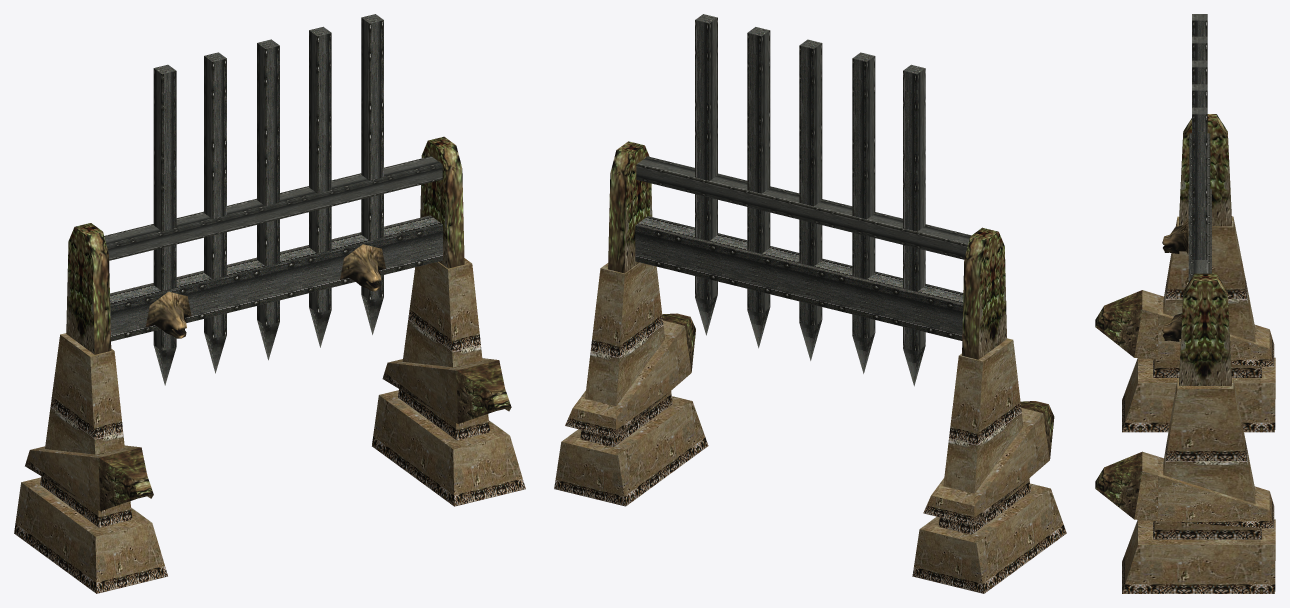
File: StoneMuWall01.glb
3 views of the same model, side by side, from view 1: azimuth 30°, elevation 25°; view 2: azimuth 150°, elevation 25°; view 3: azimuth 270°, elevation 25° (orthographic). The views are drawn at different scales.
Parts seen in each view (by area): view 1: StoneMuWall01; view 2: StoneMuWall01; view 3: StoneMuWall01.
Part boxes in pixels (bbox=[...]): StoneMuWall01: bbox=[14, 14, 525, 593]; StoneMuWall01: bbox=[554, 14, 1066, 593]; StoneMuWall01: bbox=[1095, 14, 1275, 593].
Size of the model in its own units: 6 by 6.24 by 2.36.
Materials: 5 (5 with a texture image).
